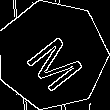M_NE: (17, 21, 87, 89)
